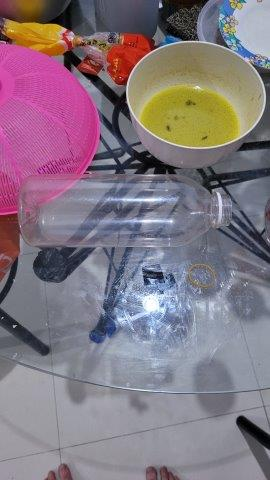botolplastik: (15, 174, 234, 248)
